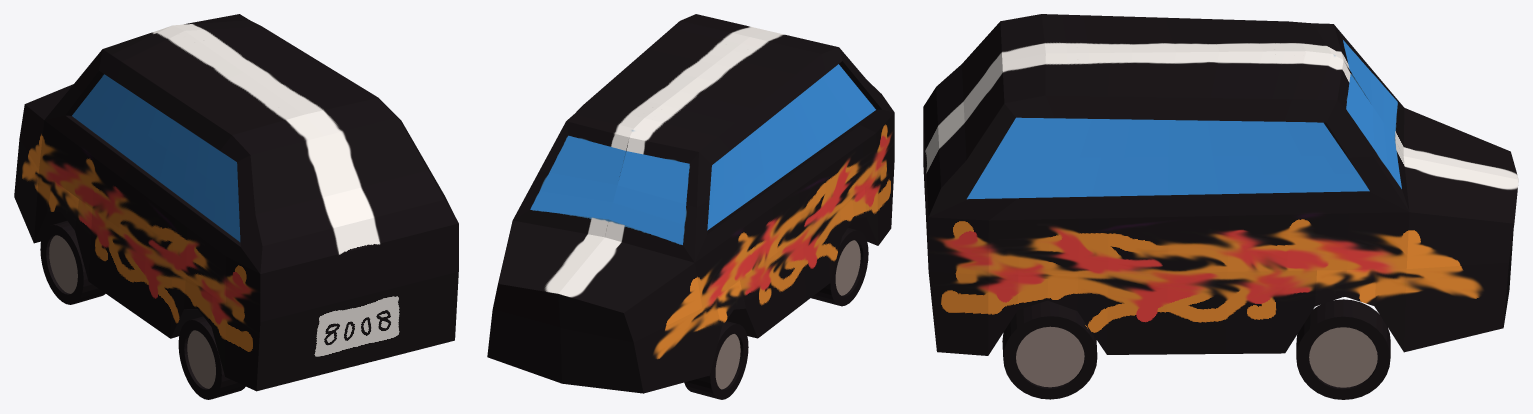
File: CoolVanCar (1).fbx
The picture shows the model from 3 angles, left to right: view 1: azimuth 30°, elevation 25°; view 2: azimuth 150°, elevation 25°; view 3: azimuth 270°, elevation 25°; orthographic projection. The views are drawn at different scales.
Visible parts, largest first — view 1: Car Body, Front Left Wheel, Back Left Wheel; view 2: Car Body, Front Left Wheel, Back Left Wheel; view 3: Car Body, Front Right Wheel.001, Back Right Wheel.
Part boxes in pixels (bbox=[...]): Car Body: bbox=[14, 14, 458, 391]; Front Left Wheel: bbox=[40, 221, 105, 304]; Back Left Wheel: bbox=[178, 316, 245, 399]; Car Body: bbox=[487, 14, 894, 393]; Front Left Wheel: bbox=[684, 321, 748, 399]; Back Left Wheel: bbox=[811, 228, 868, 306]; Car Body: bbox=[923, 14, 1518, 355]; Front Right Wheel.001: bbox=[1296, 299, 1390, 399]; Back Right Wheel: bbox=[1002, 300, 1097, 399].
Size of the model in its own units: 360 by 395 by 737.
Materials: 5 (2 with a texture image).
